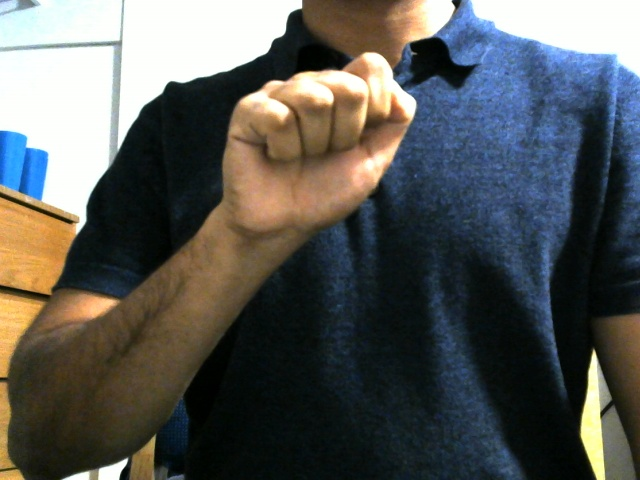A: (214, 46, 420, 243)
